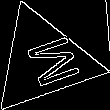M_W: (11, 30, 76, 91)
